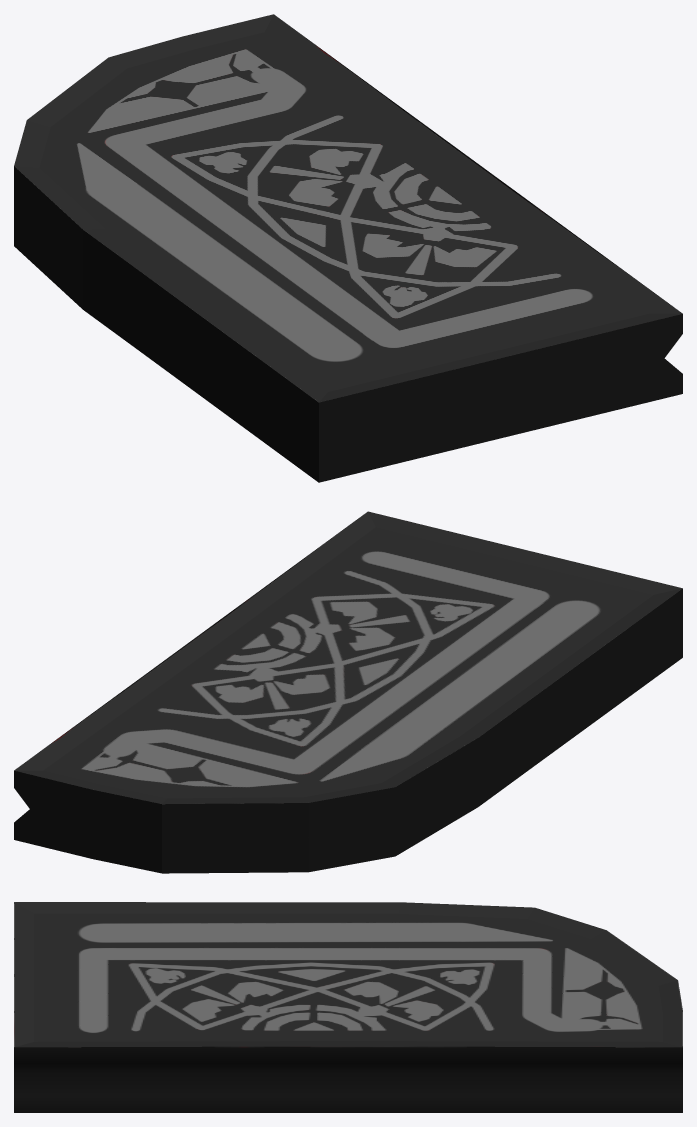
The model's file is door.fbx.
The picture shows the model from 3 angles, top to bottom: view 1: azimuth 30°, elevation 25°; view 2: azimuth 150°, elevation 25°; view 3: azimuth 270°, elevation 25°; orthographic projection. The views are drawn at different scales.
Parts seen in each view (by area): view 1: Cube; view 2: Cube; view 3: Cube.
Boxes of the visible parts, box(x1,y1,x2,y2) form: Cube: box(14, 14, 682, 482); Cube: box(14, 511, 682, 873); Cube: box(14, 902, 682, 1112).
Size of the model in its own units: 333 by 70.03 by 648.
